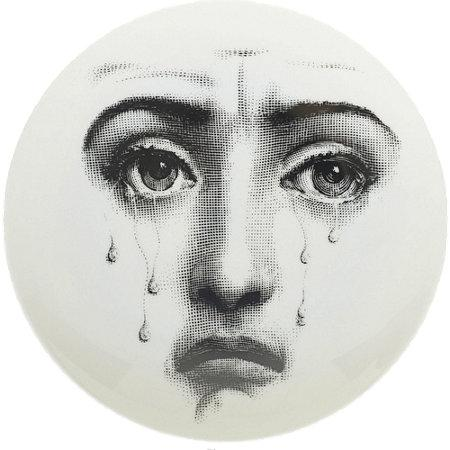person: (100, 60, 407, 422)
